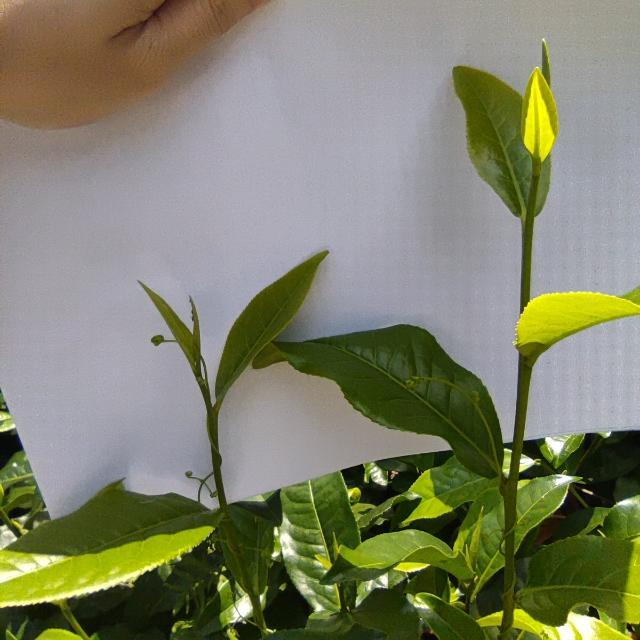Stem: (518, 368, 530, 390), (208, 410, 218, 425)
